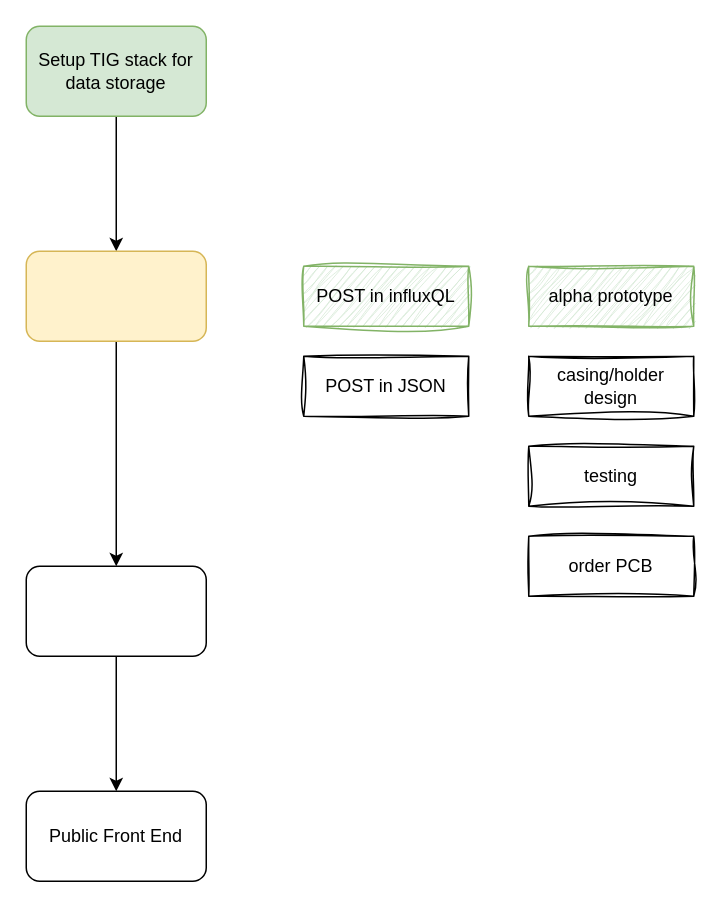
The diagram is 720 pixels wide and 908 high, and some of its shapes have lost their labels. Each missing label, with the box of its shape:
Graphic PDF exporter: (25, 565, 206, 656)
Roast temperature sensor: (25, 250, 206, 341)
